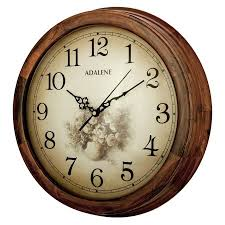alarm_clock: (12, 14, 212, 215), (15, 14, 212, 215)
